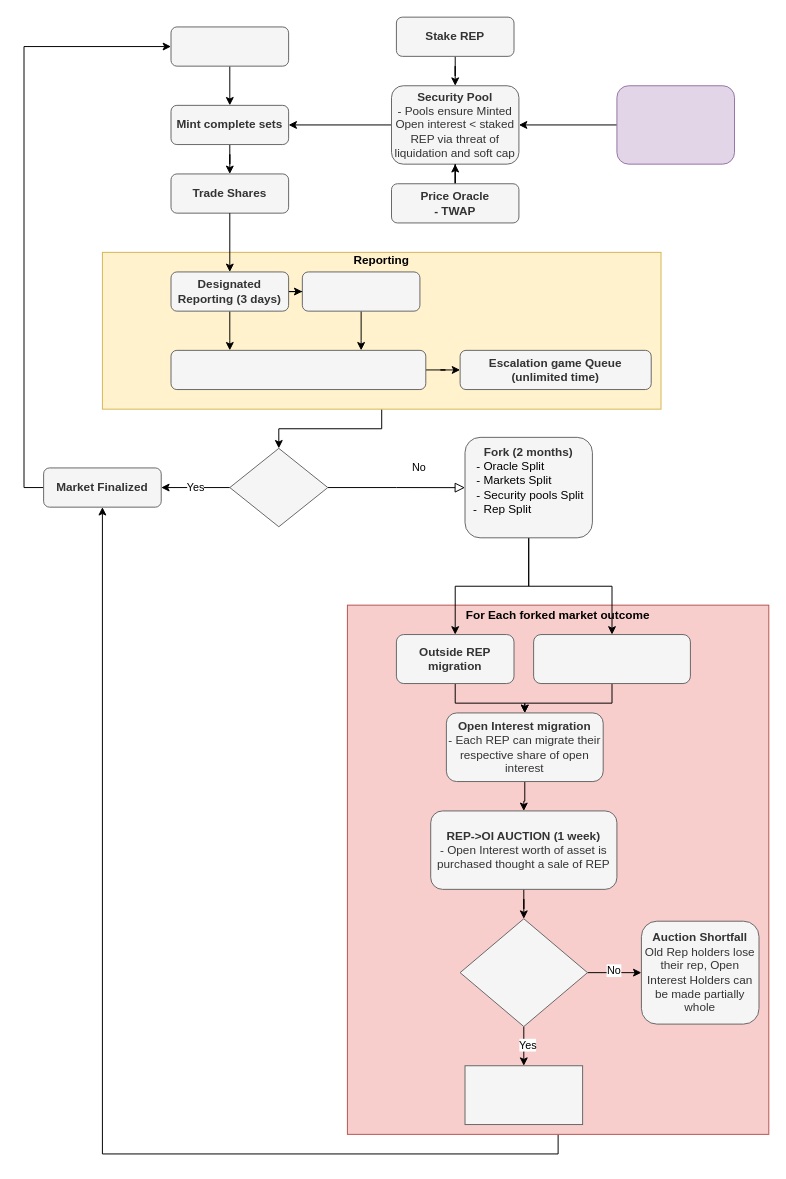
The diagram is 786 pixels wide and 1179 high, and some of its shapes have lost their labels. The shapes that lost their labels are listed below. From the top down, each one's centre as x and y in pixels, then its label:
(x=229, y=46): Market Creation
(x=675, y=124): External Custom Pool Controller - Charges fees for complete sets
(x=360, y=291): Initial reporting (after 3 days, until reported)
(x=298, y=369): Escalation game (7 weeks)
(x=278, y=487): Consensus?
(x=611, y=659): Security Pools M igrate - REP migration happens inside the pool
(x=523, y=972): Raised Enough capital
(x=523, y=1095): Open Interest Holders made whole
